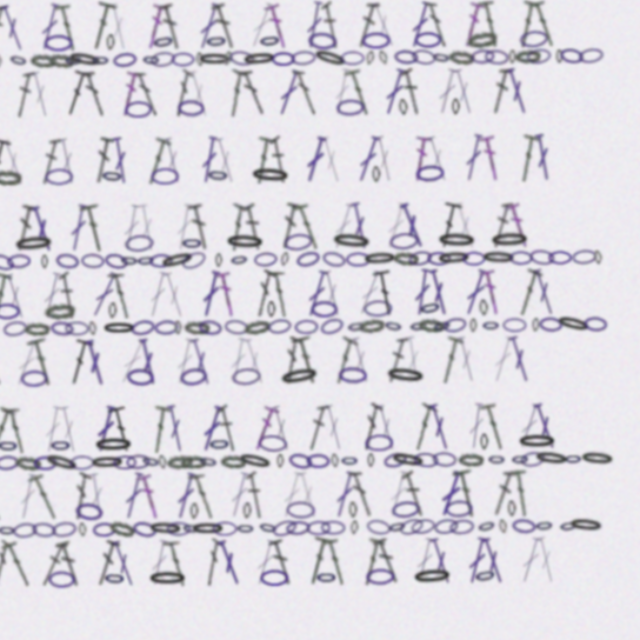chain: (326, 394, 362, 414), (416, 395, 452, 413), (356, 124, 388, 144), (125, 466, 157, 486), (101, 281, 137, 298), (371, 281, 407, 298), (59, 295, 91, 314), (225, 295, 257, 314), (561, 352, 593, 371), (303, 225, 338, 241), (438, 567, 473, 583), (290, 467, 321, 485), (148, 125, 179, 142), (11, 54, 46, 69), (416, 54, 451, 69), (281, 282, 316, 297), (461, 282, 496, 297), (506, 282, 541, 297), (33, 453, 68, 468), (487, 110, 515, 128), (420, 468, 451, 484), (56, 55, 91, 69), (168, 454, 203, 468), (528, 454, 563, 468), (213, 568, 248, 582), (16, 167, 42, 185), (542, 468, 573, 483), (571, 525, 602, 540), (243, 295, 267, 314), (581, 469, 612, 483), (127, 339, 154, 355), (15, 510, 42, 526), (297, 127, 327, 141), (50, 298, 80, 312), (80, 296, 103, 314), (319, 524, 342, 542), (242, 395, 266, 412), (152, 509, 176, 526), (180, 524, 204, 541), (511, 54, 536, 70), (353, 111, 378, 127), (533, 111, 558, 127), (196, 282, 221, 298), (331, 282, 356, 298), (421, 282, 446, 298), (286, 396, 311, 412), (308, 453, 333, 469), (421, 510, 446, 526), (16, 282, 42, 297), (398, 298, 428, 311), (461, 298, 491, 311), (499, 298, 529, 311), (214, 526, 244, 539), (296, 354, 320, 370), (341, 296, 363, 313), (361, 353, 383, 370), (427, 524, 449, 541), (331, 55, 357, 69), (466, 55, 492, 69), (83, 226, 109, 240), (197, 54, 221, 69), (39, 111, 63, 126), (56, 128, 86, 140), (259, 128, 289, 140), (444, 225, 468, 240), (176, 356, 206, 368), (377, 396, 401, 411), (165, 470, 195, 482), (332, 510, 356, 525), (250, 527, 280, 539), (220, 110, 241, 127), (445, 338, 466, 355), (490, 566, 511, 583), (178, 297, 200, 313), (363, 297, 385, 313), (333, 468, 355, 484), (414, 468, 436, 484), (200, 525, 222, 541), (399, 525, 421, 541), (242, 168, 265, 183), (394, 354, 417, 369), (197, 396, 220, 411), (467, 510, 490, 525), (377, 55, 401, 69), (129, 112, 153, 126), (399, 112, 423, 126), (377, 169, 401, 183), (129, 226, 153, 240), (219, 226, 243, 240), (399, 340, 423, 354), (399, 454, 423, 468), (39, 568, 63, 582), (309, 568, 333, 582), (399, 568, 423, 582), (219, 126, 241, 141), (286, 126, 308, 141), (583, 126, 605, 141), (540, 297, 562, 312), (200, 354, 222, 369), (132, 525, 154, 540), (437, 525, 459, 540), (444, 112, 467, 126), (132, 127, 155, 141), (472, 127, 495, 141), (197, 169, 220, 183), (84, 340, 107, 354), (354, 340, 377, 354), (107, 397, 130, 411), (65, 469, 88, 483), (101, 469, 124, 483), (230, 469, 253, 483), (129, 568, 152, 582), (441, 126, 462, 141), (539, 126, 560, 141), (567, 126, 588, 141), (137, 297, 158, 312), (437, 297, 458, 312), (92, 354, 113, 369), (317, 354, 338, 369), (466, 354, 487, 369), (457, 525, 478, 540), (440, 469, 462, 483), (470, 526, 492, 540), (311, 111, 331, 126), (176, 225, 196, 240), (266, 225, 286, 240), (187, 127, 208, 141), (503, 127, 524, 141), (44, 298, 65, 312), (132, 355, 153, 369), (258, 355, 279, 369), (280, 355, 301, 369), (531, 469, 552, 483), (99, 526, 120, 540), (115, 526, 136, 540), (331, 526, 352, 540), (523, 526, 544, 540), (529, 127, 551, 140), (424, 298, 446, 311), (576, 298, 598, 311), (26, 355, 48, 368), (445, 355, 467, 368), (36, 469, 58, 482), (266, 111, 285, 126), (176, 567, 195, 582), (339, 127, 360, 140), (426, 127, 447, 140), (45, 355, 66, 368), (84, 469, 105, 482), (456, 469, 477, 482), (65, 526, 86, 539), (98, 126, 116, 141), (208, 468, 226, 483), (307, 525, 325, 540), (417, 525, 435, 540), (493, 525, 511, 540), (109, 55, 128, 69), (41, 226, 60, 240), (244, 283, 263, 297), (19, 397, 38, 411), (64, 397, 83, 411), (86, 454, 105, 468), (131, 454, 150, 468), (266, 454, 285, 468), (356, 568, 375, 582), (117, 128, 139, 140), (110, 356, 132, 368), (246, 356, 268, 368), (242, 470, 264, 482), (276, 470, 298, 482), (478, 470, 500, 482), (492, 127, 512, 140), (96, 298, 116, 311), (159, 298, 179, 311), (306, 298, 326, 311), (221, 355, 241, 368), (548, 355, 568, 368), (586, 355, 606, 368), (27, 469, 47, 482), (196, 469, 216, 482), (384, 299, 405, 311), (415, 355, 433, 369), (148, 470, 169, 482), (257, 469, 275, 483), (269, 527, 290, 539), (361, 527, 382, 539), (49, 128, 69, 140), (237, 128, 257, 140), (322, 128, 342, 140), (381, 128, 401, 140), (217, 299, 237, 311), (453, 299, 473, 311), (483, 299, 503, 311), (523, 299, 543, 311), (556, 299, 576, 311), (58, 356, 78, 368), (145, 356, 165, 368), (340, 356, 360, 368), (517, 356, 537, 368), (117, 470, 137, 482), (185, 470, 205, 482), (349, 470, 369, 482), (167, 527, 187, 539), (230, 527, 250, 539), (349, 527, 369, 539), (458, 127, 475, 141), (384, 355, 401, 369), (437, 355, 454, 369), (457, 355, 474, 369), (563, 526, 580, 540), (285, 298, 302, 311), (192, 298, 208, 311), (206, 298, 222, 311), (49, 469, 65, 482), (243, 526, 259, 539), (543, 526, 559, 539), (29, 128, 45, 140), (146, 128, 162, 140), (169, 128, 185, 140), (212, 128, 228, 140), (499, 356, 515, 368), (59, 470, 75, 482), (378, 470, 394, 482), (503, 470, 519, 482), (523, 470, 539, 482), (568, 470, 584, 482), (86, 527, 102, 539), (289, 527, 305, 539), (413, 127, 422, 140), (295, 55, 303, 69), (430, 169, 438, 183), (497, 340, 505, 354), (281, 127, 289, 140), (328, 298, 336, 311), (33, 526, 41, 539), (250, 55, 257, 69), (182, 112, 189, 126), (475, 169, 482, 183), (407, 226, 414, 240), (182, 340, 189, 354), (317, 340, 324, 354), (497, 454, 504, 468), (70, 511, 77, 525), (250, 511, 257, 525), (295, 511, 302, 525), (385, 511, 392, 525), (520, 511, 527, 525), (402, 128, 410, 140), (223, 470, 231, 482), (512, 527, 520, 539), (86, 128, 93, 140), (258, 128, 265, 140), (595, 299, 602, 311), (165, 356, 172, 368), (370, 470, 377, 482), (54, 527, 61, 539), (155, 527, 162, 539), (386, 527, 393, 539), (524, 128, 530, 140), (564, 128, 570, 140), (34, 299, 40, 311), (125, 299, 131, 311), (273, 299, 279, 311), (82, 356, 88, 368), (238, 356, 244, 368), (489, 356, 495, 368), (542, 356, 548, 368), (324, 470, 330, 482), (401, 470, 407, 482)
double: (74, 427, 103, 469), (111, 484, 140, 526), (88, 541, 117, 583), (164, 313, 193, 354), (368, 27, 395, 70), (165, 84, 192, 127), (143, 141, 170, 184), (112, 369, 139, 412), (337, 369, 364, 412), (22, 28, 50, 69), (188, 370, 216, 411), (8, 28, 35, 70), (413, 28, 440, 70), (22, 142, 49, 184), (210, 199, 237, 241), (525, 313, 552, 355), (30, 427, 57, 469), (346, 540, 372, 583), (54, 28, 80, 70), (540, 85, 566, 127), (23, 256, 49, 298), (338, 256, 364, 298), (481, 313, 507, 355), (99, 370, 125, 412), (144, 370, 170, 412), (369, 370, 395, 412), (301, 427, 327, 469), (436, 427, 462, 469), (248, 484, 274, 526), (459, 484, 485, 526), (45, 541, 71, 583), (180, 541, 206, 583), (270, 541, 296, 583), (301, 85, 327, 126), (405, 85, 431, 126), (428, 256, 454, 297), (391, 313, 417, 354), (405, 541, 431, 582), (473, 28, 498, 70), (90, 85, 115, 127), (68, 142, 93, 184), (324, 142, 349, 184), (383, 142, 408, 184), (414, 142, 439, 184), (76, 199, 101, 241), (90, 199, 115, 241), (391, 199, 416, 241), (450, 199, 475, 241), (54, 256, 79, 298), (158, 256, 183, 298), (31, 313, 56, 355), (540, 313, 565, 355), (459, 370, 484, 412), (180, 427, 205, 469), (526, 427, 551, 469), (540, 427, 565, 469), (23, 484, 48, 526), (473, 484, 498, 526), (135, 541, 160, 583), (391, 541, 416, 583), (495, 541, 520, 583), (114, 28, 138, 70), (257, 85, 281, 127), (271, 85, 295, 127), (527, 85, 551, 127), (519, 142, 543, 184), (347, 199, 371, 241), (69, 256, 93, 298), (114, 256, 138, 298), (370, 256, 394, 298), (415, 256, 439, 298), (460, 256, 484, 298), (474, 256, 498, 298), (519, 256, 543, 298), (77, 313, 101, 355), (91, 313, 115, 355), (226, 313, 250, 355), (347, 313, 371, 355), (294, 370, 318, 412), (505, 370, 529, 412), (519, 370, 543, 412), (257, 427, 281, 469), (496, 427, 520, 469), (167, 541, 191, 583), (226, 541, 250, 583), (316, 541, 340, 583), (451, 541, 475, 583), (527, 541, 551, 583), (121, 542, 146, 582), (32, 541, 56, 582), (325, 28, 348, 70), (519, 28, 542, 70), (226, 85, 249, 127), (316, 85, 339, 127), (437, 85, 460, 127), (482, 85, 505, 127), (249, 142, 272, 184), (460, 142, 483, 184), (474, 142, 497, 184), (32, 199, 55, 241), (271, 199, 294, 241), (302, 199, 325, 241), (361, 199, 384, 241), (527, 199, 550, 241), (46, 313, 69, 355), (181, 313, 204, 355), (406, 313, 429, 355), (159, 370, 182, 412), (249, 370, 272, 412), (46, 427, 69, 469), (91, 427, 114, 469), (406, 427, 429, 469), (451, 427, 474, 469), (204, 484, 227, 526), (235, 484, 258, 526), (325, 484, 348, 526), (339, 484, 362, 526), (370, 484, 393, 526), (302, 541, 325, 583), (361, 541, 384, 583), (482, 541, 505, 583), (69, 370, 92, 411), (429, 484, 452, 525), (505, 484, 528, 525), (295, 28, 317, 70), (137, 85, 159, 127), (11, 142, 33, 184), (281, 142, 303, 184), (281, 256, 303, 298), (56, 370, 78, 412), (213, 427, 235, 469), (317, 427, 339, 469), (69, 485, 92, 525), (101, 28, 123, 69), (205, 28, 227, 69), (385, 28, 407, 69), (47, 85, 69, 126), (123, 85, 145, 126), (213, 85, 235, 126), (393, 85, 415, 126), (56, 142, 78, 183), (205, 142, 227, 183), (295, 142, 317, 183), (340, 142, 362, 183), (47, 199, 69, 240), (123, 313, 145, 354), (213, 313, 235, 354), (258, 313, 280, 354), (303, 313, 325, 354), (452, 313, 474, 354), (385, 370, 407, 411), (475, 370, 497, 411), (168, 427, 190, 468), (362, 427, 384, 468), (393, 427, 415, 468), (56, 484, 78, 525), (191, 484, 213, 525), (281, 484, 303, 525), (416, 484, 438, 525), (438, 541, 460, 582), (146, 28, 167, 69), (281, 28, 302, 69), (506, 28, 527, 69), (182, 85, 203, 126), (497, 85, 518, 126), (115, 142, 136, 183), (191, 142, 212, 183), (168, 199, 189, 240), (227, 199, 248, 240), (407, 199, 428, 240), (483, 199, 504, 240), (101, 256, 122, 297), (250, 256, 271, 297), (326, 256, 347, 297), (272, 313, 293, 354), (317, 313, 338, 354), (362, 313, 383, 354), (497, 313, 518, 354), (205, 370, 226, 411), (236, 370, 257, 411), (137, 427, 158, 468), (385, 484, 406, 525), (213, 541, 234, 582), (542, 541, 563, 582), (71, 28, 91, 69), (251, 28, 271, 69), (462, 28, 482, 69), (34, 85, 54, 126), (349, 85, 369, 126), (453, 85, 473, 126), (161, 142, 181, 183), (372, 142, 392, 183), (431, 142, 451, 183), (507, 142, 527, 183), (138, 199, 158, 240), (498, 199, 518, 240), (147, 256, 167, 297), (192, 256, 212, 297), (237, 256, 257, 297), (386, 256, 406, 297), (507, 256, 527, 297), (12, 370, 32, 411), (282, 370, 302, 411), (327, 370, 347, 411), (417, 370, 437, 411), (124, 427, 144, 468), (228, 427, 248, 468), (349, 427, 369, 468), (12, 484, 32, 525), (102, 484, 122, 525), (147, 484, 167, 525), (79, 541, 99, 582), (192, 28, 211, 69), (79, 85, 98, 126), (237, 142, 256, 183), (124, 199, 143, 240), (259, 199, 278, 240), (439, 199, 458, 240), (543, 199, 562, 240), (12, 256, 31, 297), (206, 256, 225, 297), (296, 256, 315, 297), (273, 427, 292, 468), (521, 484, 540, 525), (162, 28, 180, 69), (342, 28, 360, 69), (364, 85, 382, 126), (103, 142, 121, 183), (184, 199, 202, 240), (319, 199, 337, 240), (440, 313, 458, 354), (27, 370, 45, 411), (432, 370, 450, 411), (485, 427, 503, 468), (162, 484, 180, 525), (260, 541, 278, 582), (238, 28, 255, 69), (432, 28, 449, 69), (139, 313, 156, 354), (297, 484, 314, 525)
noise: (0, 107, 12, 121)
